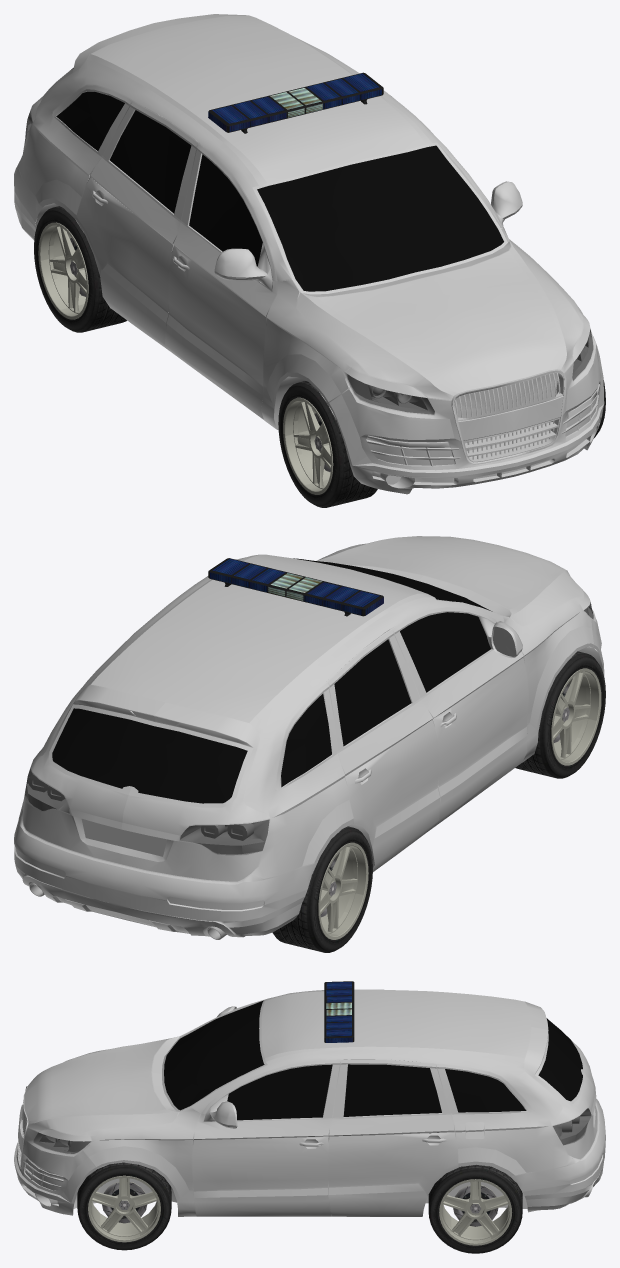
The model's file is Police Car 7.FBX.
3 views of the same model, one above another, from view 1: azimuth 30°, elevation 25°; view 2: azimuth 150°, elevation 25°; view 3: azimuth 270°, elevation 25° (orthographic). The views are drawn at different scales.
Visible parts, largest first — view 1: Body, FR, BR; view 2: Body, BR, FR; view 3: Body, BL, FL.
Part boxes in pixels (x1,y1,x2,y2): Body: [14, 14, 604, 494]; FR: [278, 381, 377, 507]; BR: [34, 206, 126, 332]; Body: [14, 536, 604, 939]; BR: [272, 826, 372, 952]; FR: [515, 651, 605, 778]; Body: [14, 981, 605, 1216]; BL: [428, 1165, 522, 1253]; FL: [77, 1162, 171, 1250].
Size of the model in its own units: 64.06 by 53.94 by 147.
